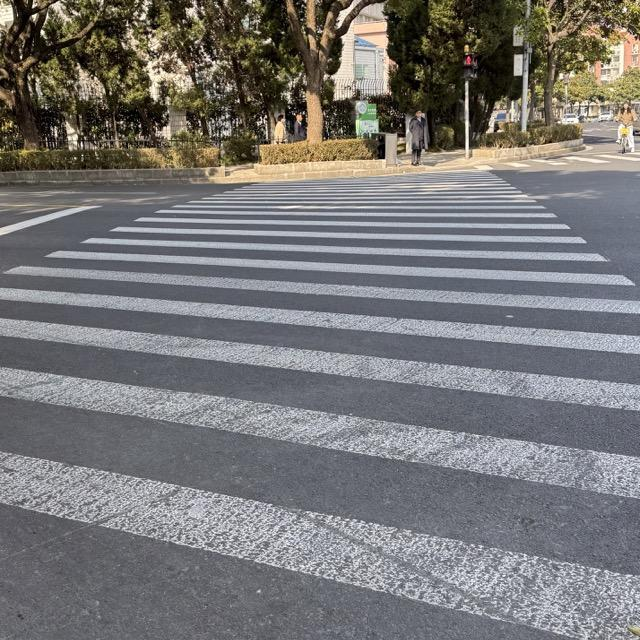curb: (0, 166, 424, 191), (0, 168, 219, 182), (472, 138, 583, 159), (476, 147, 587, 165), (255, 160, 389, 174)
